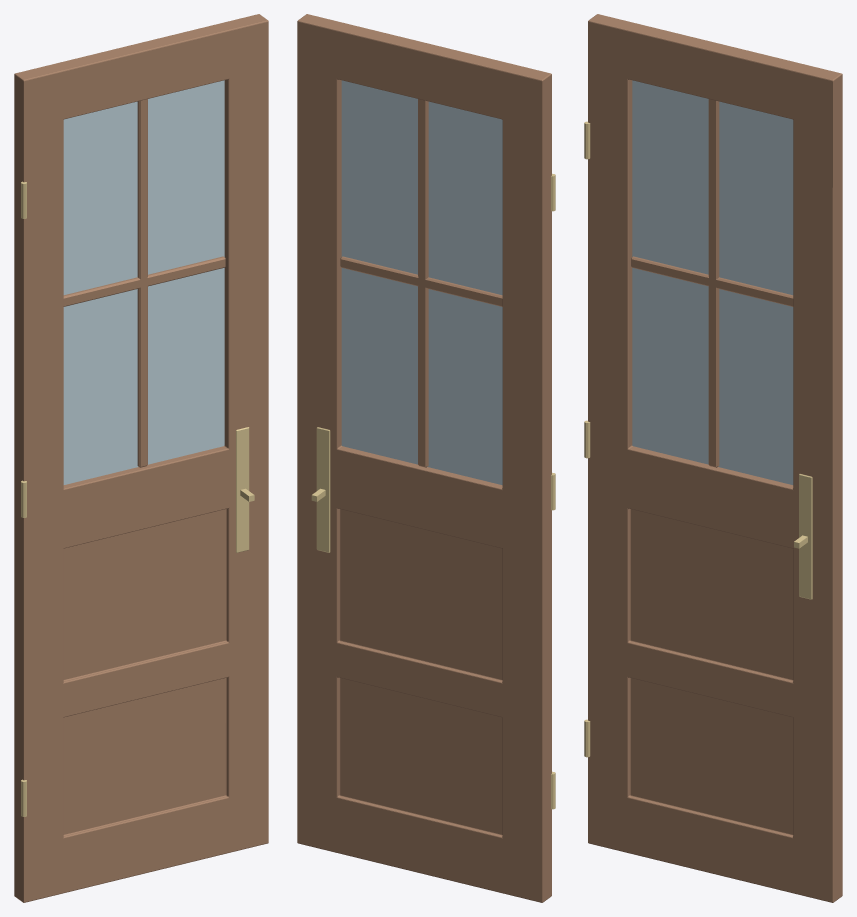
File: door_leaf_main.glb
The picture shows the model from 3 angles, left to right: view 1: azimuth 30°, elevation 25°; view 2: azimuth 150°, elevation 25°; view 3: azimuth 330°, elevation 25°; orthographic projection.
Parts seen in each view (by area): view 1: door_leaf_main_door, door_leaf_main_glass, door_leaf_main_brass; view 2: door_leaf_main_door, door_leaf_main_glass, door_leaf_main_brass; view 3: door_leaf_main_door, door_leaf_main_glass, door_leaf_main_brass.
Boxes of the visible parts, x1,y1,x2,y2 form: door_leaf_main_door: (14, 14, 268, 902); door_leaf_main_glass: (63, 80, 224, 484); door_leaf_main_brass: (21, 181, 254, 816); door_leaf_main_door: (297, 14, 551, 902); door_leaf_main_glass: (341, 80, 502, 485); door_leaf_main_brass: (311, 173, 555, 809); door_leaf_main_door: (588, 14, 842, 902); door_leaf_main_glass: (632, 80, 793, 484); door_leaf_main_brass: (584, 121, 812, 757).
Size of the model in its own units: 0.738 by 2.34 by 0.15.
